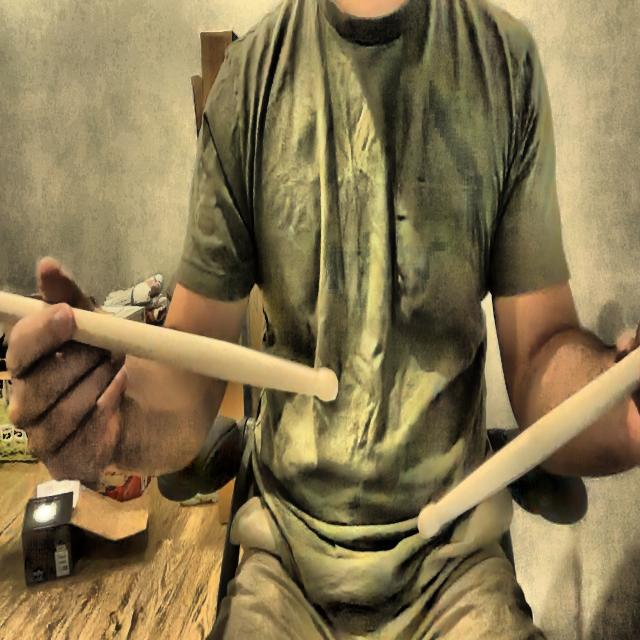Drumstick-Heads: (312, 353, 344, 415), (411, 497, 444, 545)
